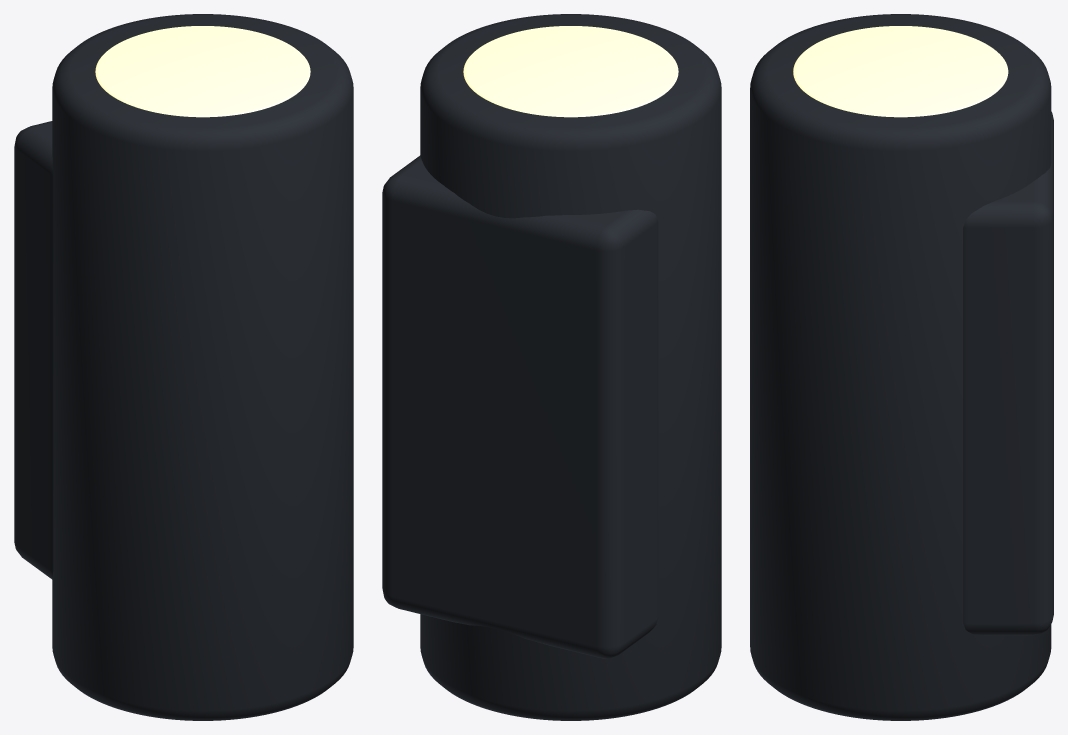
File: 02-kinkiet-led.glb
The picture shows the model from 3 angles, left to right: view 1: azimuth 30°, elevation 25°; view 2: azimuth 150°, elevation 25°; view 3: azimuth 270°, elevation 25°; orthographic projection.
Visible parts, largest first — view 1: Tall cylindrical luminaire, Rear mounting block, Inset warm diffuser 1; view 2: Rear mounting block, Tall cylindrical luminaire, Inset warm diffuser 1; view 3: Tall cylindrical luminaire, Rear mounting block, Inset warm diffuser 1.
Part boxes in pixels (<box>): Tall cylindrical luminaire: <box>52,14,353,720</box>; Rear mounting block: <box>14,121,53,579</box>; Inset warm diffuser 1: <box>95,26,310,117</box>; Rear mounting block: <box>382,155,658,658</box>; Tall cylindrical luminaire: <box>420,14,721,720</box>; Inset warm diffuser 1: <box>463,26,678,117</box>; Tall cylindrical luminaire: <box>750,14,1051,720</box>; Rear mounting block: <box>963,111,1053,635</box>; Inset warm diffuser 1: <box>793,26,1008,117</box>.
Bounding box in the file's own units: 0.12 × 0.261 × 0.121.
